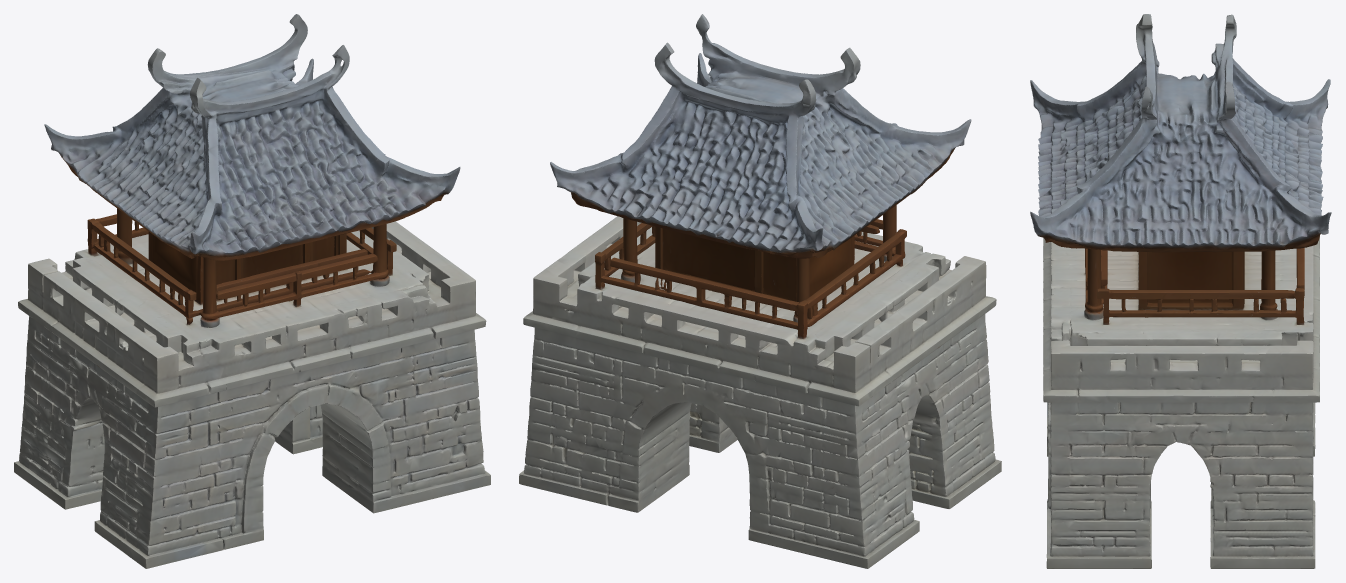
File: torre_wanping.glb
3 renders of one model, left to right at view 1: azimuth 30°, elevation 25°; view 2: azimuth 150°, elevation 25°; view 3: azimuth 270°, elevation 25°, orthographic.
Parts seen in each view (by area): view 1: model; view 2: model; view 3: model.
Part boxes in pixels (x1,y1,x2,y2): model: (14,14,490,568); model: (519,14,1001,568); model: (1030,14,1331,568).
Size of the model in its own units: 1.55 by 1.85 by 1.16.
1 material, 1 textured.
